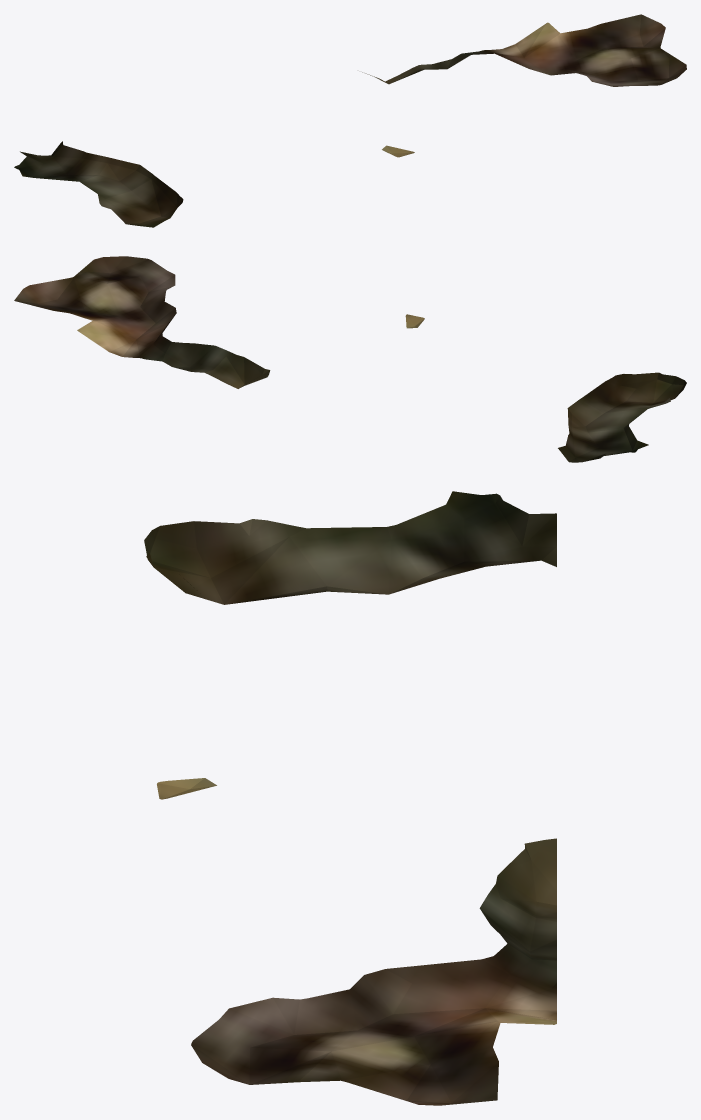
3 renders of one model, top to bottom at view 1: azimuth 30°, elevation 25°; view 2: azimuth 150°, elevation 25°; view 3: azimuth 270°, elevation 25°, orthographic. The views are drawn at different scales.
Size of the model in its own units: 0.4958 by 0.0144 by 0.1408.
1 material, 1 textured.
